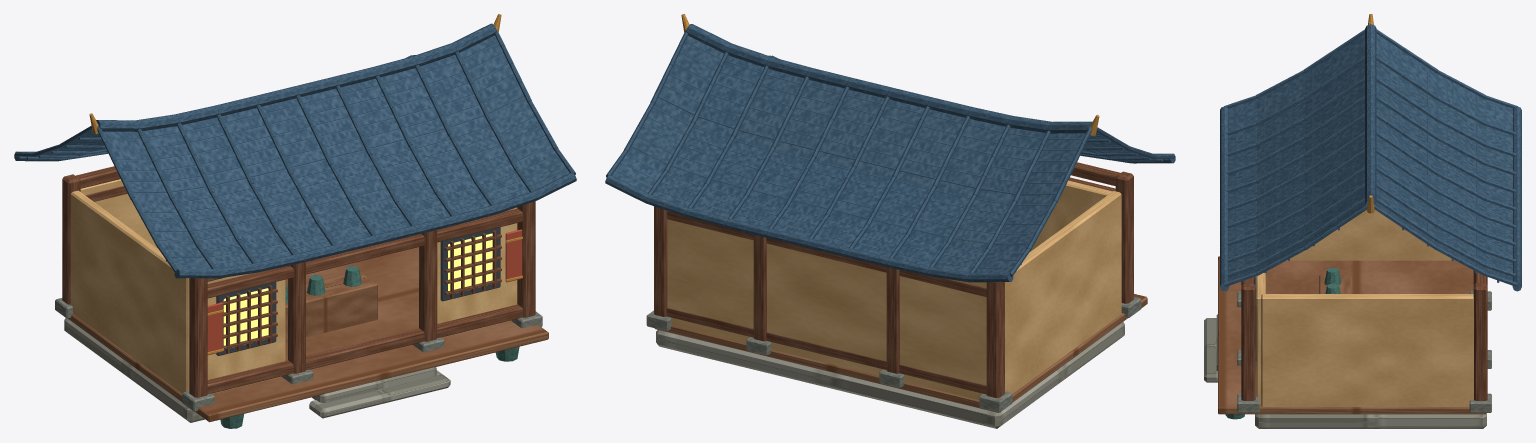
Rendered from tea_house.gltf.
3 renders of one model, left to right at view 1: azimuth 30°, elevation 25°; view 2: azimuth 150°, elevation 25°; view 3: azimuth 270°, elevation 25°, orthographic. The views are drawn at different scales.
Visible parts, largest first — view 1: tea_house; view 2: tea_house; view 3: tea_house.
Boxes of the visible parts, box(x1,y1,x2,y2) form: tea_house: box(14, 14, 576, 428); tea_house: box(605, 14, 1175, 428); tea_house: box(1204, 14, 1521, 428).
Bounding box in the file's own units: 9.3 × 5.9 × 6.8.
11 materials, 8 textured.
